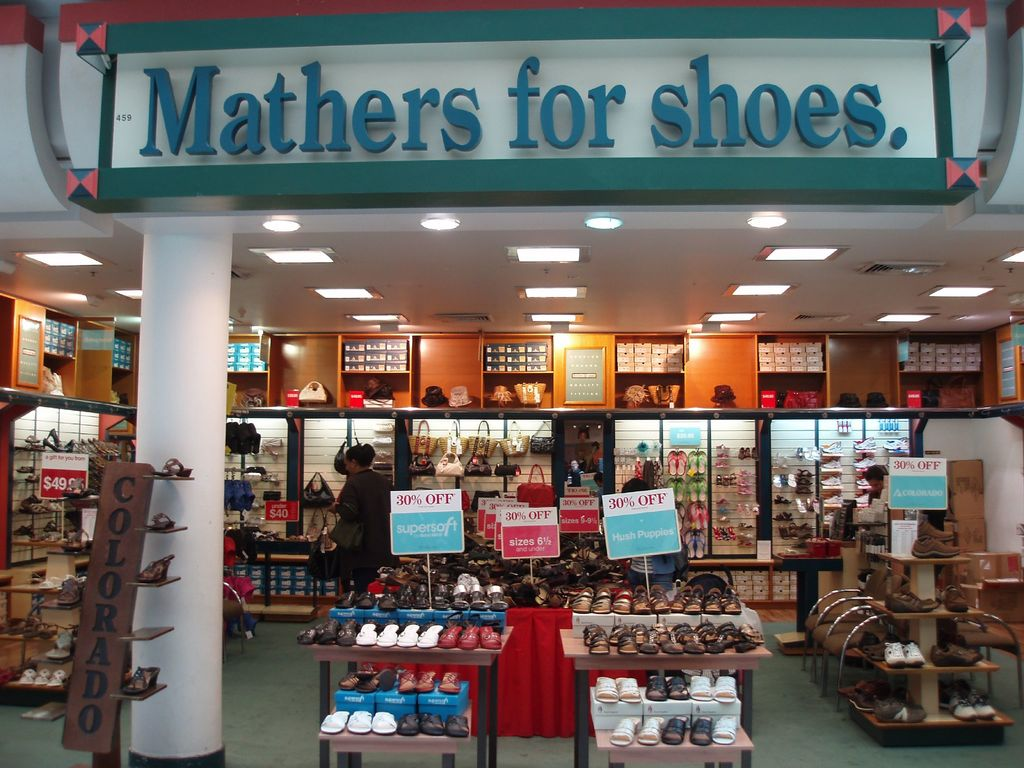Person: (325, 442, 389, 592), (625, 478, 674, 596), (861, 464, 889, 507), (591, 472, 603, 496)
